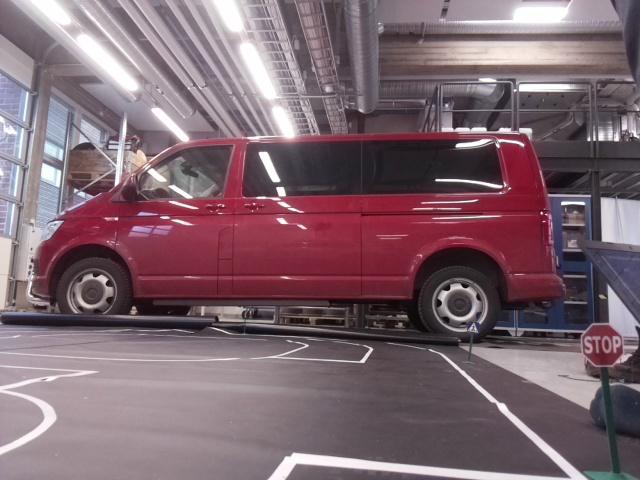Crosswalk: (468, 321, 479, 335)
Stop: (579, 322, 624, 367)
